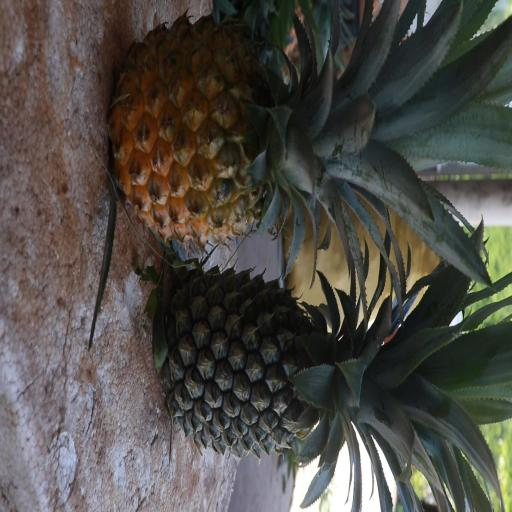Pineapple - v8 v1: (114, 10, 456, 245)
